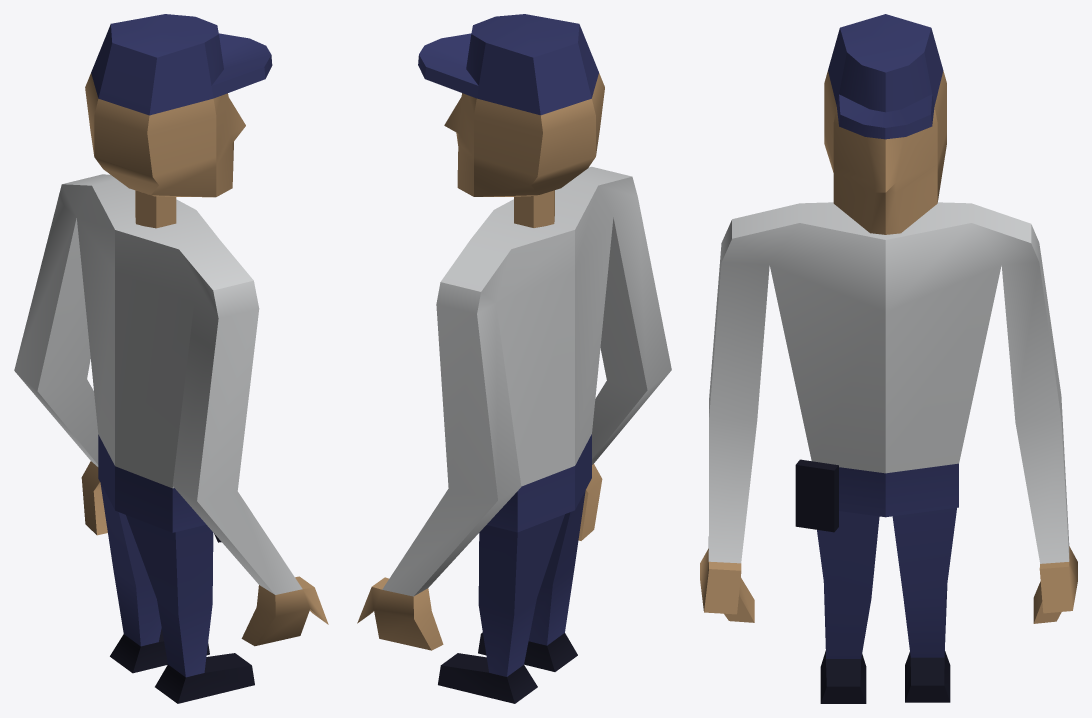
File: Security Guard.fbx
3 renders of one model, left to right at view 1: azimuth 30°, elevation 25°; view 2: azimuth 150°, elevation 25°; view 3: azimuth 270°, elevation 25°, orthographic.
Parts seen in each view (by area): view 1: Torso, Head, R_Leg, L_Leg, neck; view 2: Torso, Head, L_Leg, R_Leg, neck; view 3: Torso, Head, L_Leg, R_Leg, Walkie_Talkie.
Part boxes in pixels (box(x1,y1,x2,y2)): Torso: box(14, 174, 328, 646); Head: box(85, 14, 272, 197); R_Leg: box(126, 515, 254, 703); L_Leg: box(100, 483, 209, 673); neck: box(135, 190, 176, 228); Torso: box(357, 166, 671, 650); Head: box(418, 14, 604, 196); L_Leg: box(438, 514, 564, 703); R_Leg: box(478, 490, 585, 671); neck: box(514, 190, 554, 227); Torso: box(700, 202, 1077, 623); Head: box(824, 14, 946, 234); L_Leg: box(892, 507, 956, 702); R_Leg: box(817, 511, 879, 703); Walkie_Talkie: box(795, 459, 838, 532).
Size of the model in its own units: 6.82 by 24.42 by 13.12.
